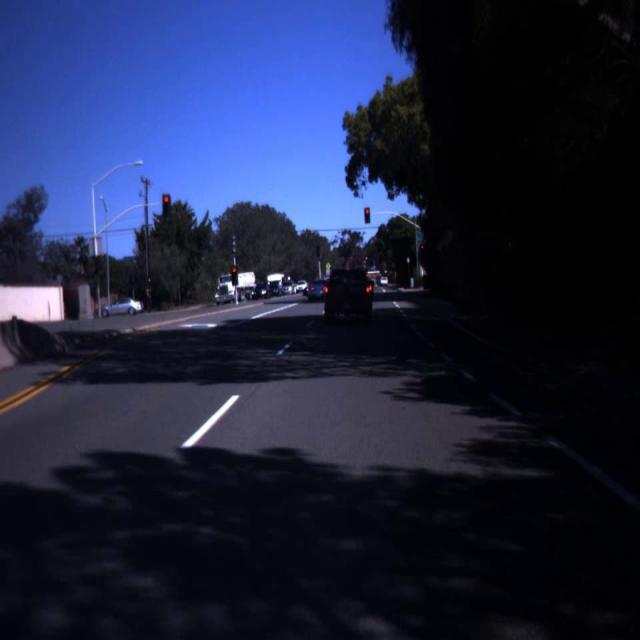kirmizi: (163, 194, 171, 220), (232, 266, 238, 286), (364, 207, 370, 223)
